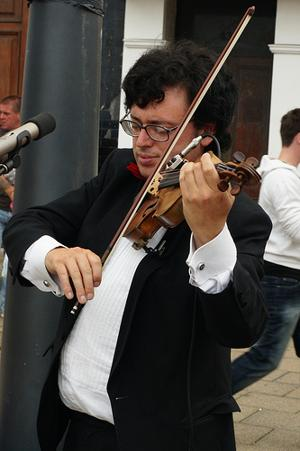person: (4, 44, 272, 451)
